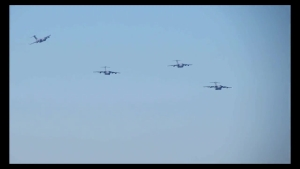flight: (202, 80, 234, 90), (91, 66, 121, 76), (166, 58, 193, 68), (30, 33, 52, 44)
